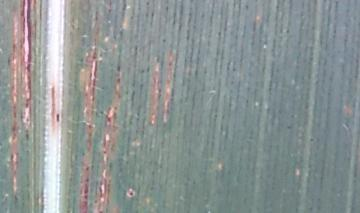tarspot: (55, 113, 63, 124), (125, 190, 137, 196)
